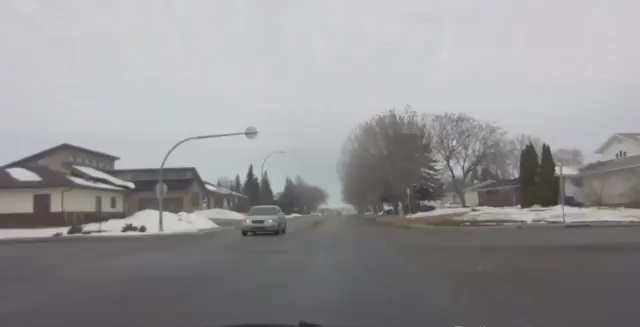car: (241, 204, 287, 235)
